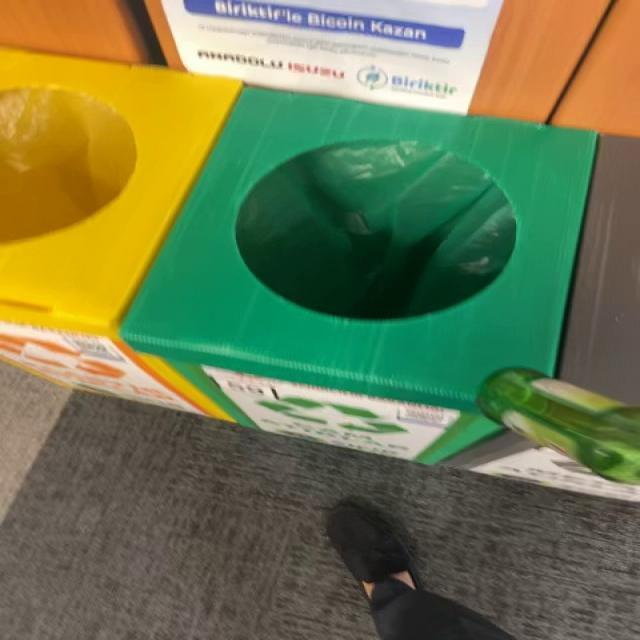Glass: (479, 369, 640, 484)
